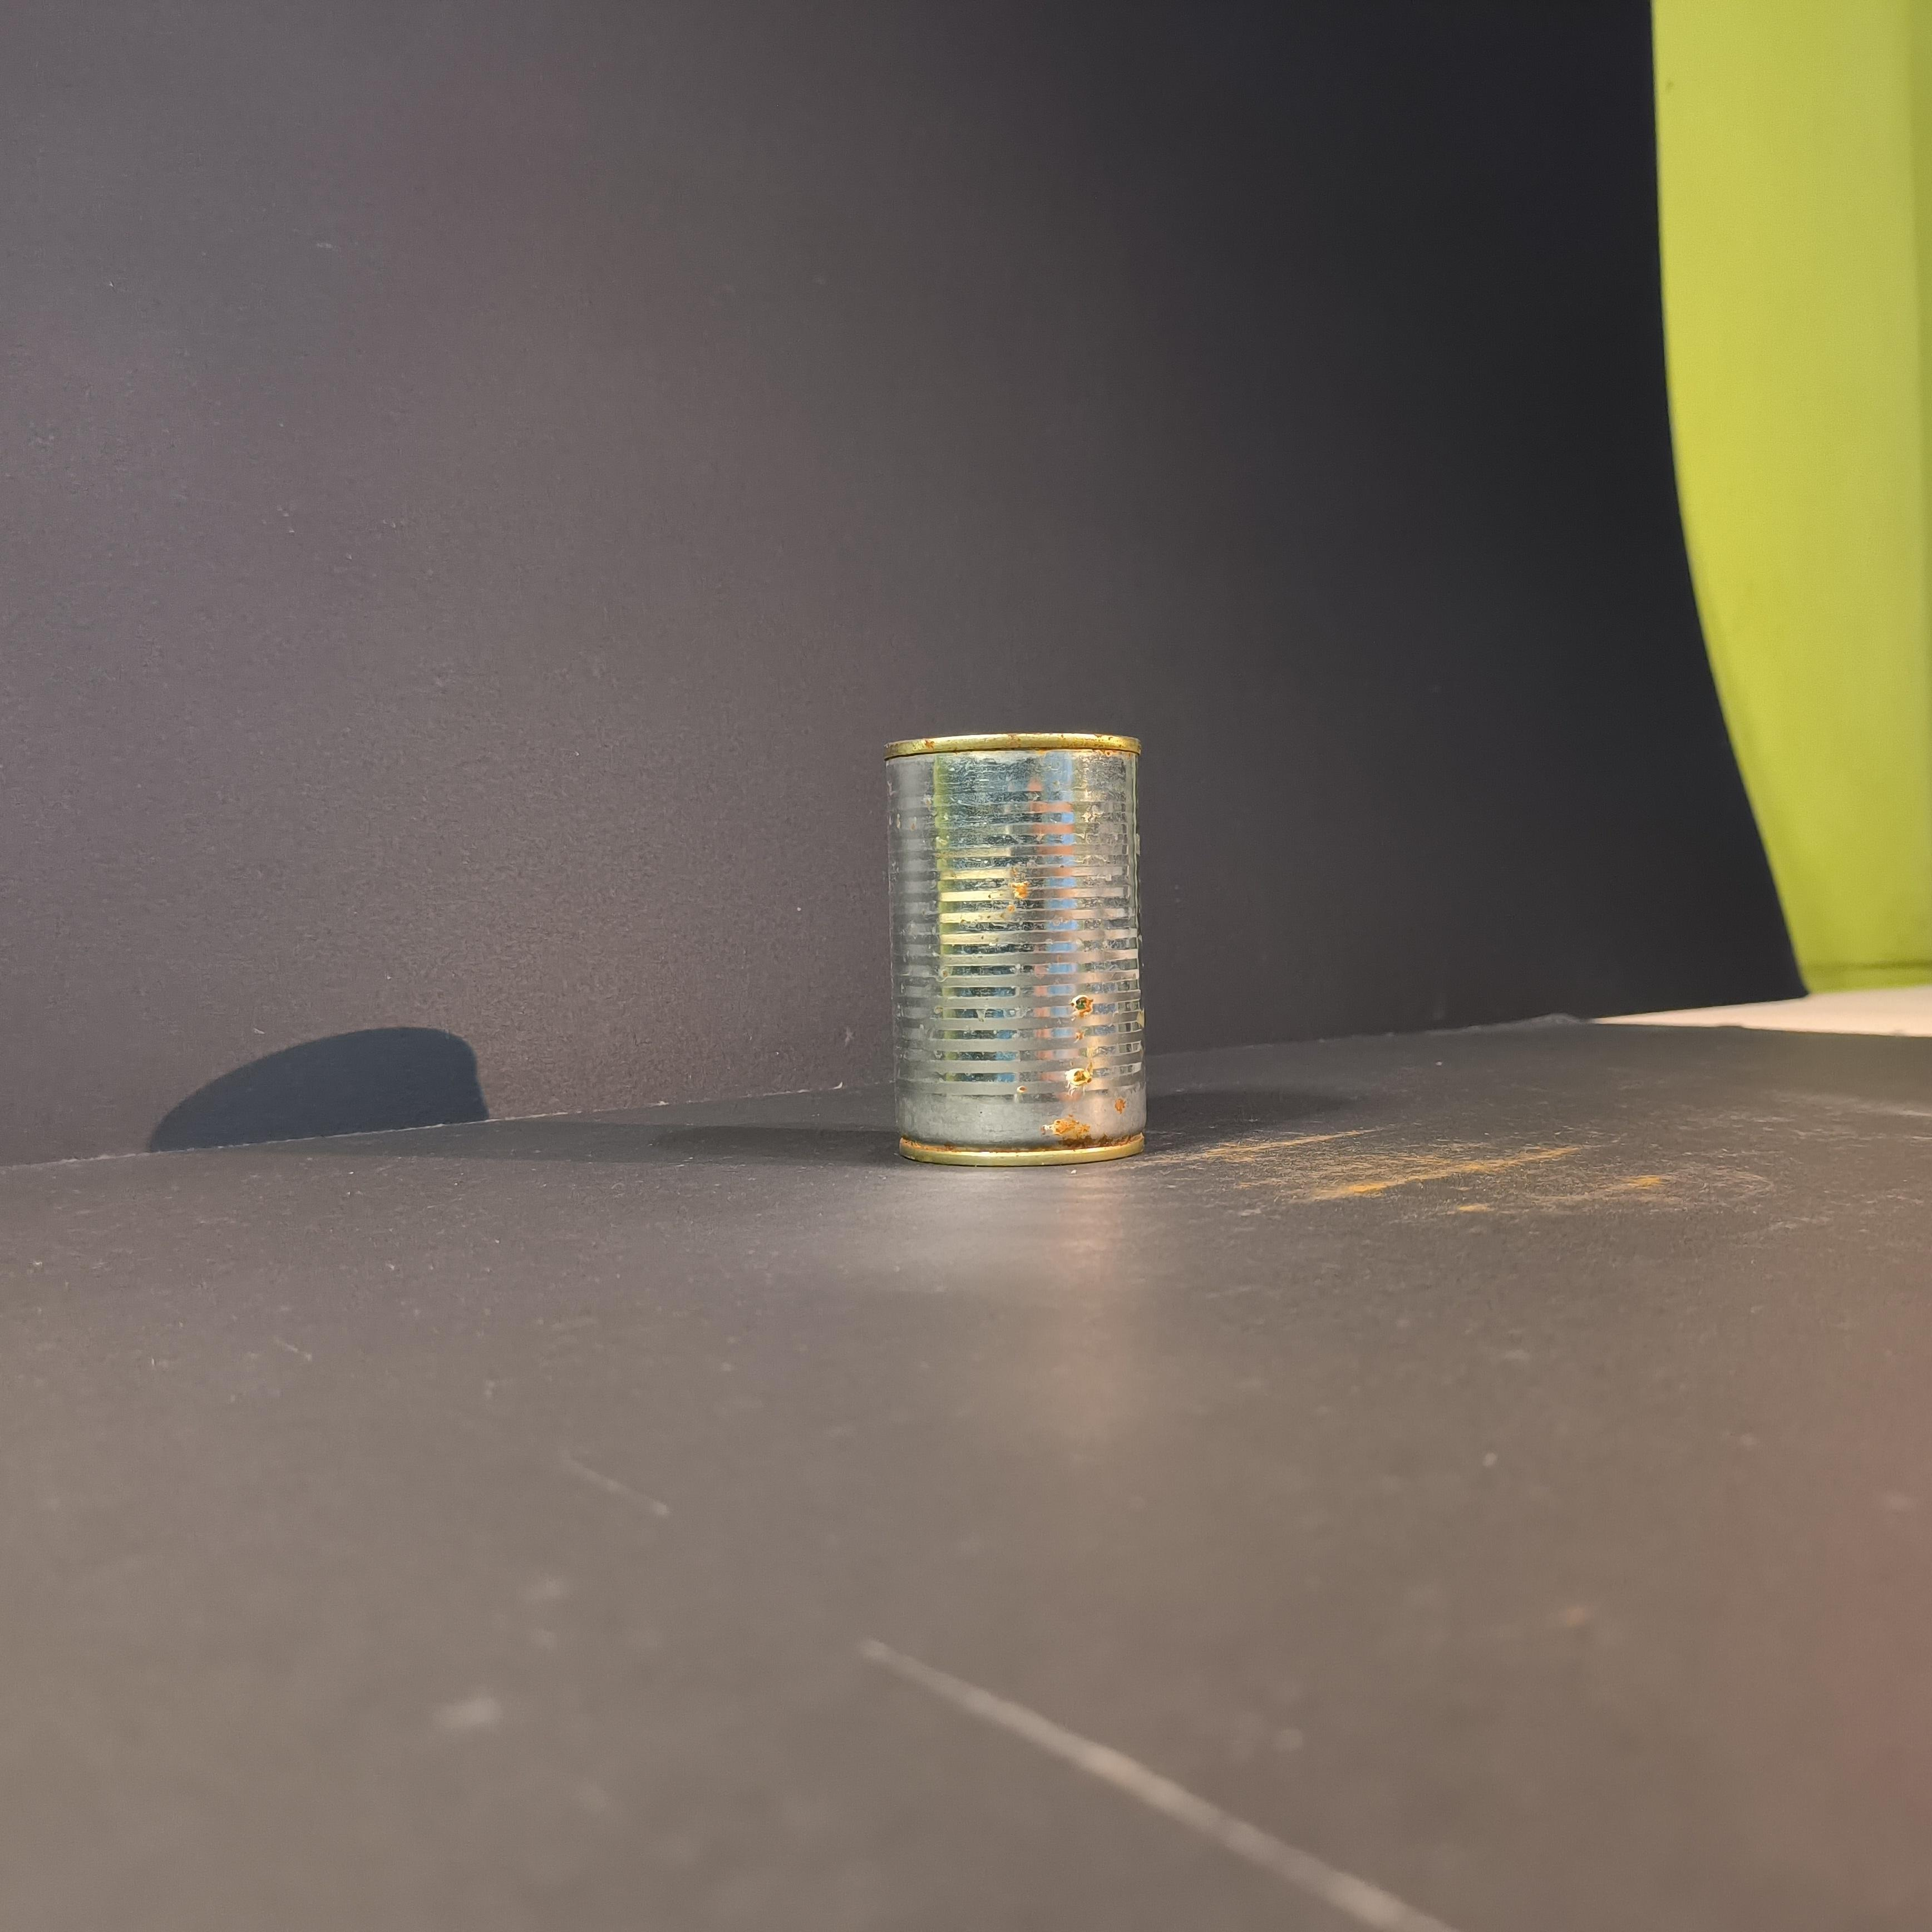Rusted: (869, 713, 1162, 1177)
